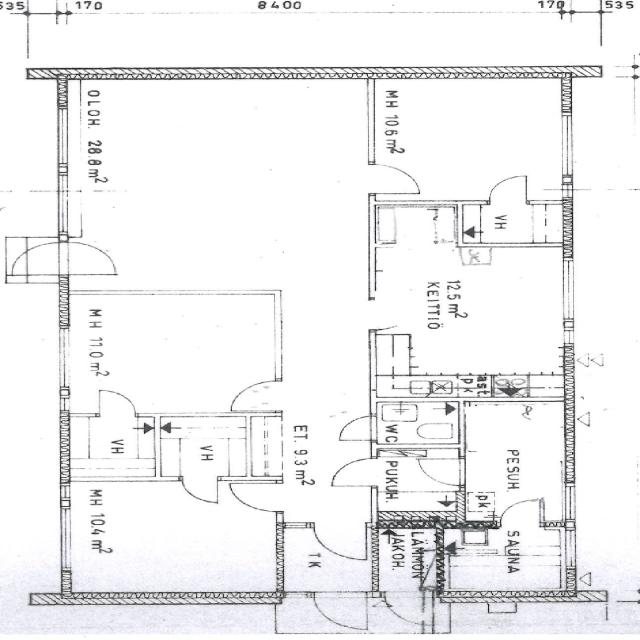door: (313, 592, 365, 631), (313, 523, 366, 561), (57, 242, 118, 274), (6, 242, 67, 274), (384, 592, 433, 629), (228, 380, 284, 410), (231, 482, 283, 512), (370, 164, 422, 193), (327, 459, 376, 486), (415, 459, 464, 486), (501, 496, 541, 527), (332, 416, 377, 439), (490, 178, 526, 205), (99, 390, 134, 417), (182, 476, 216, 503)
